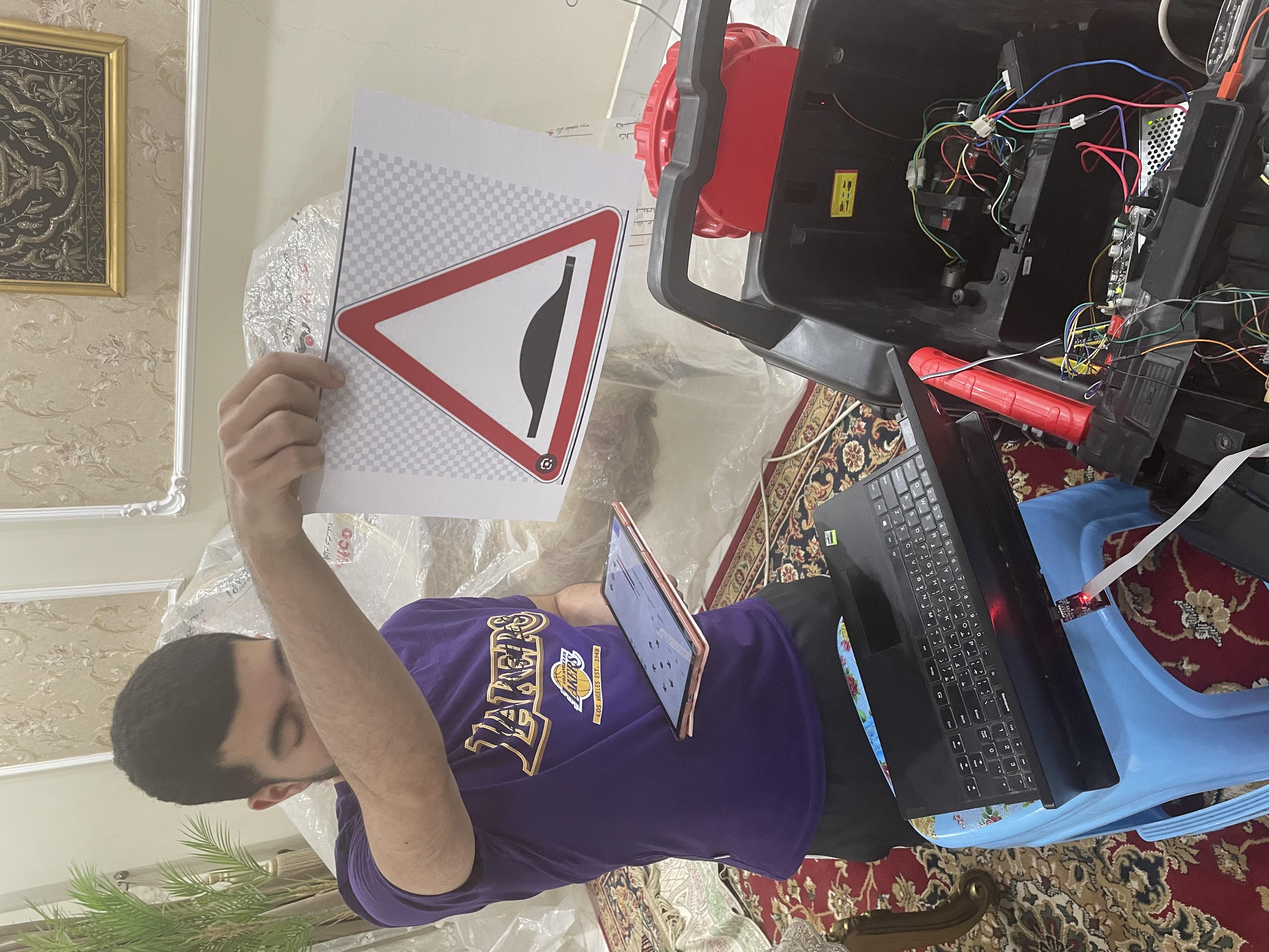Hump: (616, 253, 995, 453)
